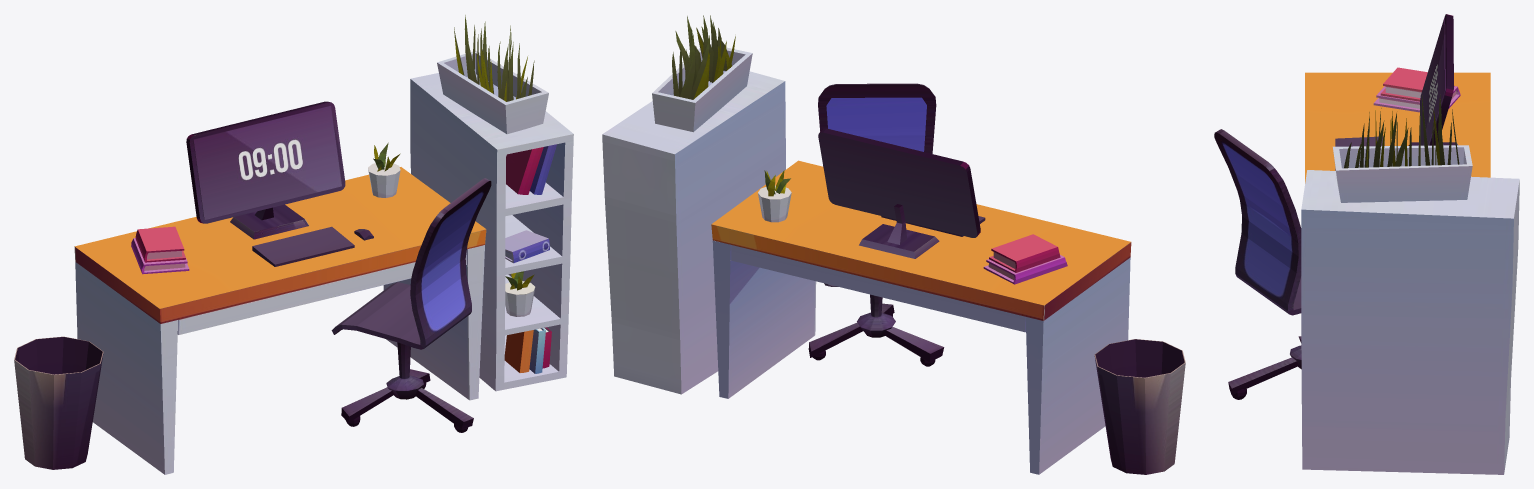
The model's file is workspace2.glb.
3 renders of one model, left to right at view 1: azimuth 30°, elevation 25°; view 2: azimuth 150°, elevation 25°; view 3: azimuth 270°, elevation 25°, orthographic. The views are drawn at different scales.
Parts seen in each view (by area): view 1: Desk, Shelf, Monitor, Seat, Trashcan, ShelfPlant2, Keyboard, DeskBook2, ShelfBook3, DeskPlant, ShelfPlant1, Stereo (+4 smaller); view 2: Desk, Shelf, Monitor, Trashcan, Seat, ShelfPlant2, DeskBook2, DeskPlant, DeskBook1; view 3: Shelf, Desk, Seat, ShelfPlant2, Monitor, DeskBook2, DeskBook1, Keyboard.
Part boxes in pixels (x1,y1,x2,y2): Desk: [74, 167, 486, 474]; Shelf: [410, 73, 573, 391]; Monitor: [186, 101, 345, 239]; Seat: [331, 178, 491, 432]; Trashcan: [14, 336, 103, 469]; ShelfPlant2: [437, 15, 548, 134]; Keyboard: [252, 226, 354, 266]; DeskBook2: [135, 226, 185, 262]; ShelfBook3: [506, 147, 543, 194]; DeskPlant: [368, 142, 400, 197]; ShelfPlant1: [505, 271, 535, 316]; Stereo: [505, 230, 549, 263]; Desk: [711, 160, 1131, 474]; Shelf: [602, 71, 785, 394]; Monitor: [818, 128, 980, 258]; Trashcan: [1094, 339, 1185, 474]; Seat: [808, 83, 944, 366]; ShelfPlant2: [652, 15, 752, 132]; DeskBook2: [989, 234, 1060, 272]; DeskPlant: [758, 170, 791, 222]; DeskBook1: [983, 255, 1067, 284]; Shelf: [1301, 170, 1519, 474]; Desk: [1305, 72, 1490, 183]; Seat: [1214, 129, 1301, 399]; ShelfPlant2: [1333, 95, 1472, 202]; Monitor: [1408, 14, 1457, 145]; DeskBook2: [1380, 67, 1454, 101]; DeskBook1: [1373, 86, 1460, 112]; Keyboard: [1335, 136, 1384, 170].
Size of the model in its own units: 3.28 by 1.99 by 1.55.
Materials: 1 (1 with a texture image).
